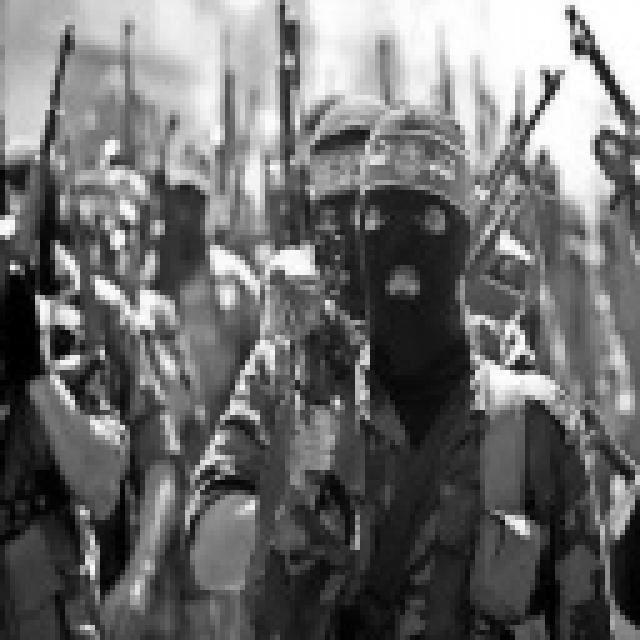Rifle: (205, 0, 365, 245), (7, 0, 124, 310), (438, 19, 566, 268), (538, 0, 640, 253), (190, 27, 262, 214)
